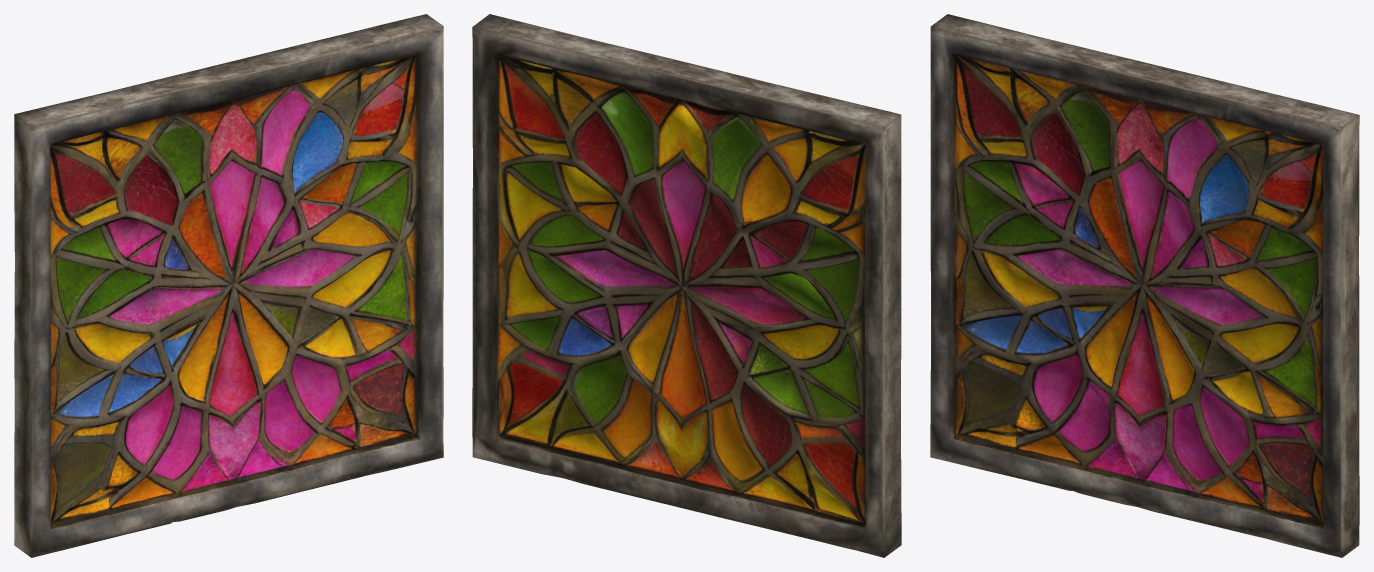
File: testTile6.glb
3 renders of one model, left to right at view 1: azimuth 30°, elevation 25°; view 2: azimuth 150°, elevation 25°; view 3: azimuth 330°, elevation 25°, orthographic.
Parts seen in each view (by area): view 1: Mesh_0; view 2: Mesh_0; view 3: Mesh_0.
Part boxes in pixels (x1,y1,x2,y2): Mesh_0: [14, 14, 443, 557]; Mesh_0: [472, 14, 901, 557]; Mesh_0: [930, 14, 1359, 557].
Bounding box in the file's own units: 1 × 1 × 0.073.
Materials: 1 (1 with a texture image).
